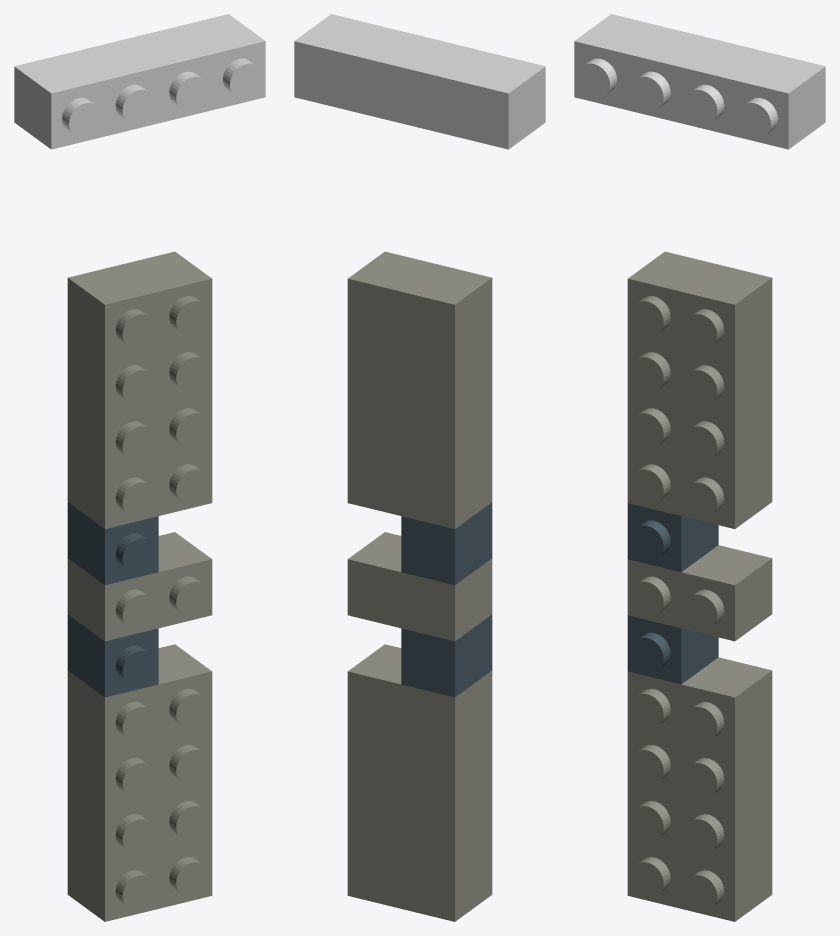
Rendered from current.glb.
3 views of the same model, side by side, from view 1: azimuth 30°, elevation 25°; view 2: azimuth 150°, elevation 25°; view 3: azimuth 330°, elevation 25° (orthographic).
Visible parts, largest first — view 1: world; view 2: world; view 3: world.
Part boxes in pixels (bbox=[...]): world: bbox=[14, 14, 265, 921]; world: bbox=[294, 14, 545, 921]; world: bbox=[574, 14, 825, 921].
Bounding box in the file's own units: 32 × 120 × 11.4.
